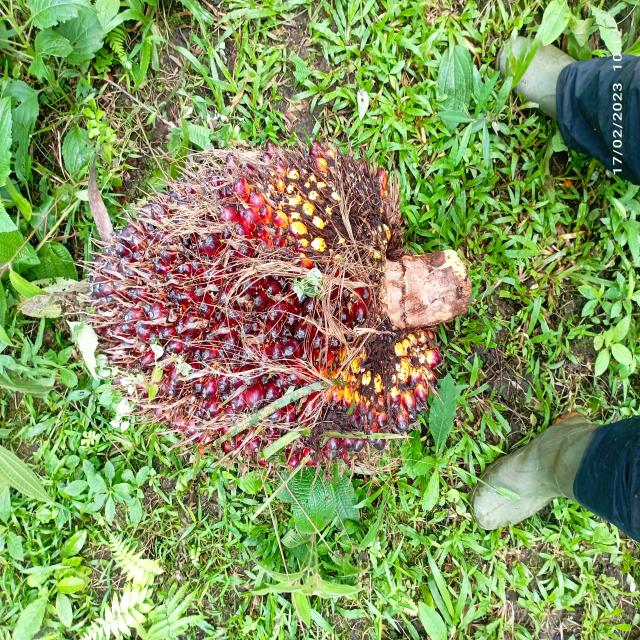fraksi 1: (45, 55, 454, 498)
